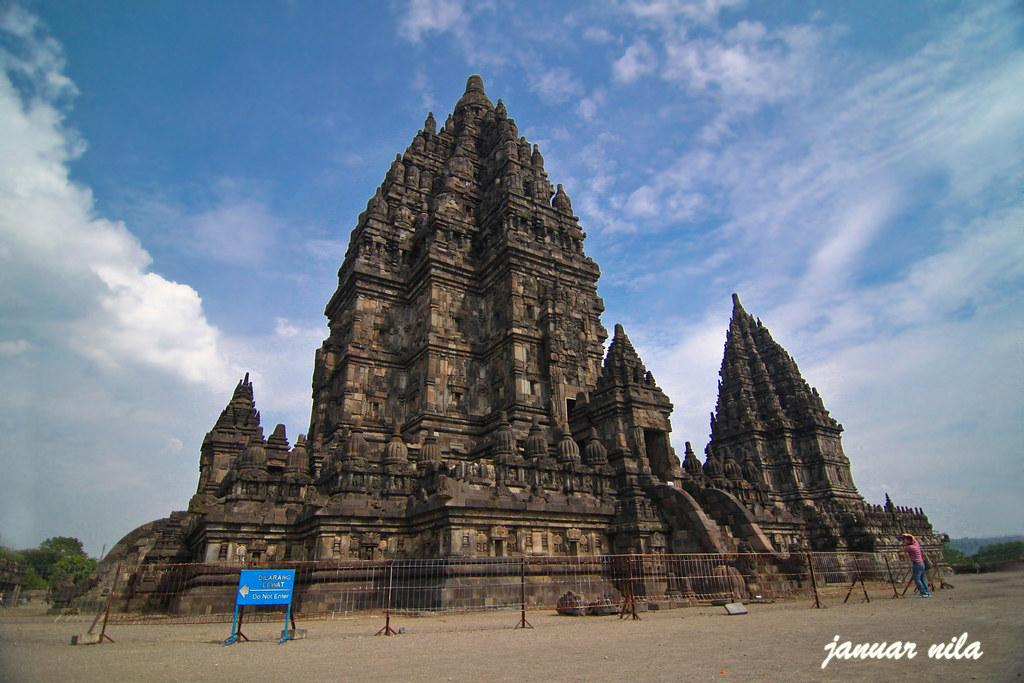temple: (75, 72, 953, 619)
